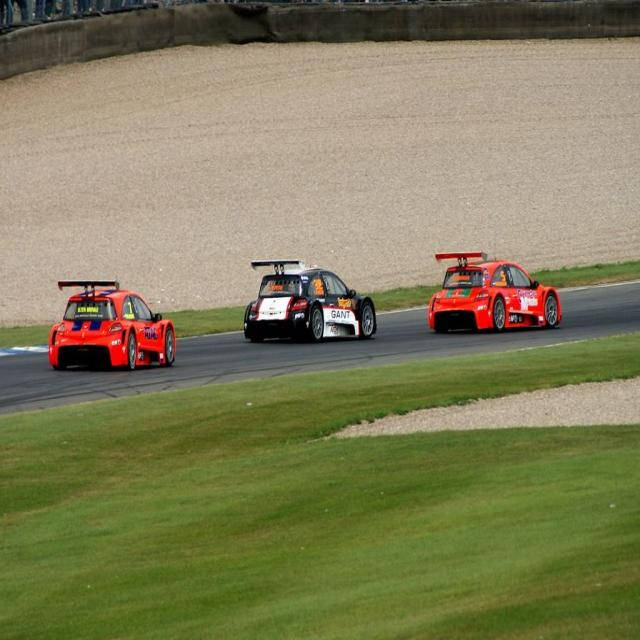car: (48, 281, 175, 366), (243, 263, 377, 339), (427, 252, 560, 328)
